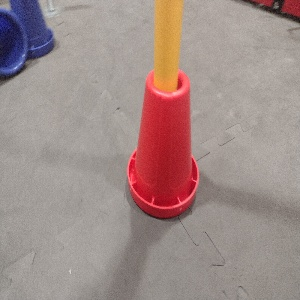Blue_1: (8, 0, 59, 55), (0, 7, 33, 72)
Red_1: (125, 63, 200, 217)
